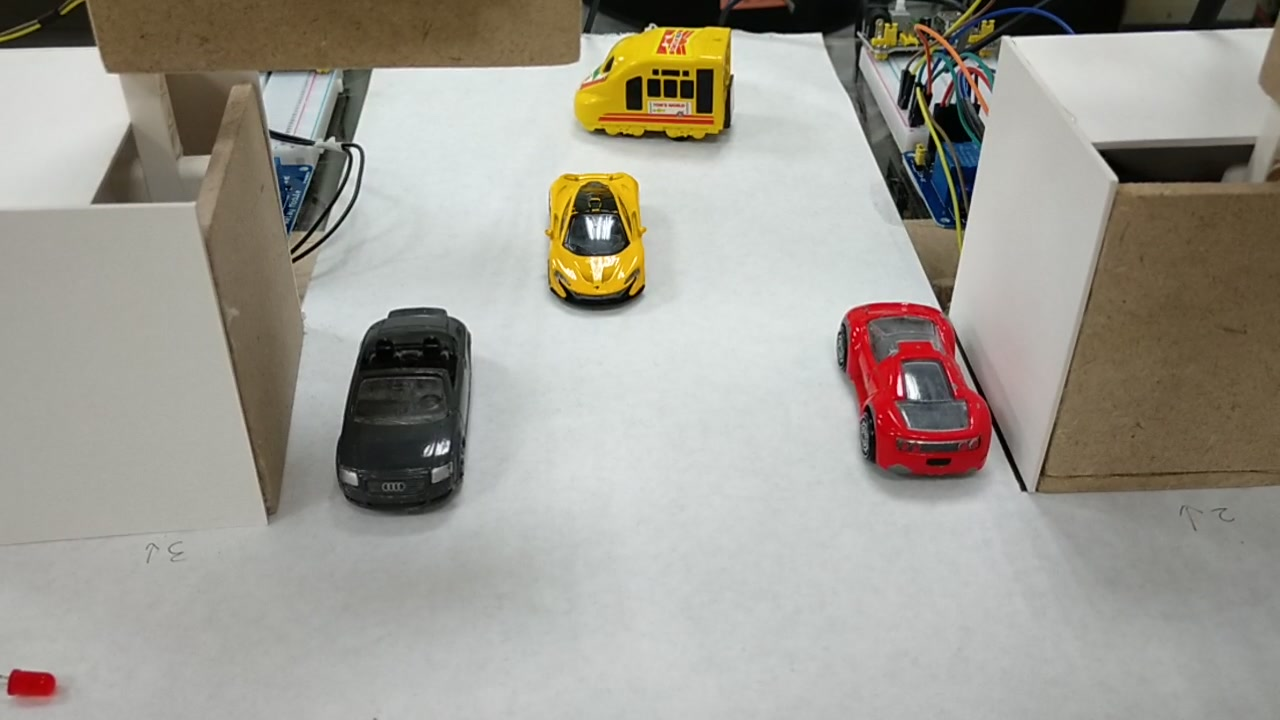car: (341, 300, 472, 504), (841, 292, 986, 475), (549, 167, 637, 297)
